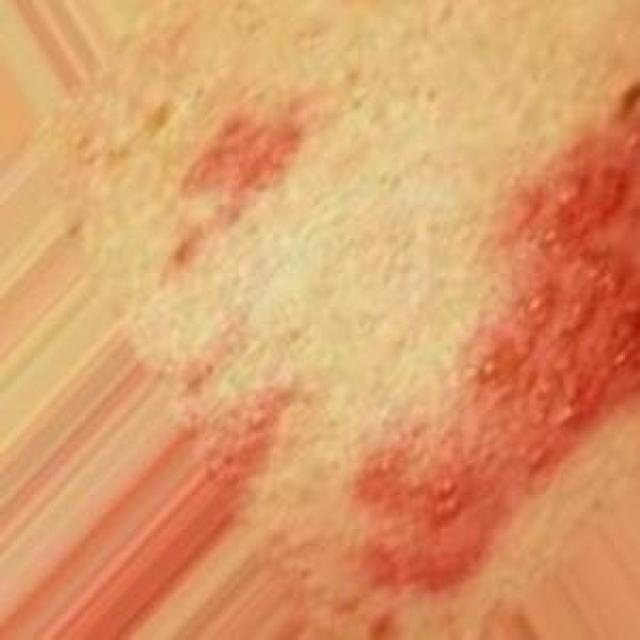Shingles: (351, 79, 640, 596), (154, 92, 320, 273), (171, 346, 296, 486)
